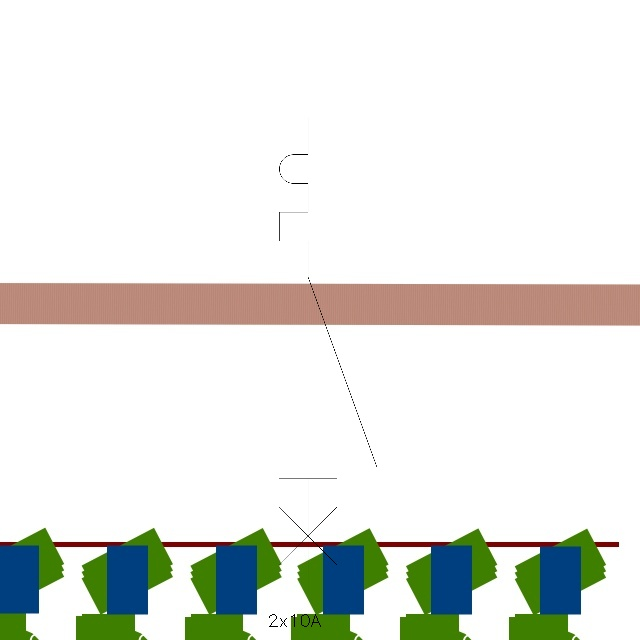interruptor_termomagnetico: (267, 106, 389, 606)
